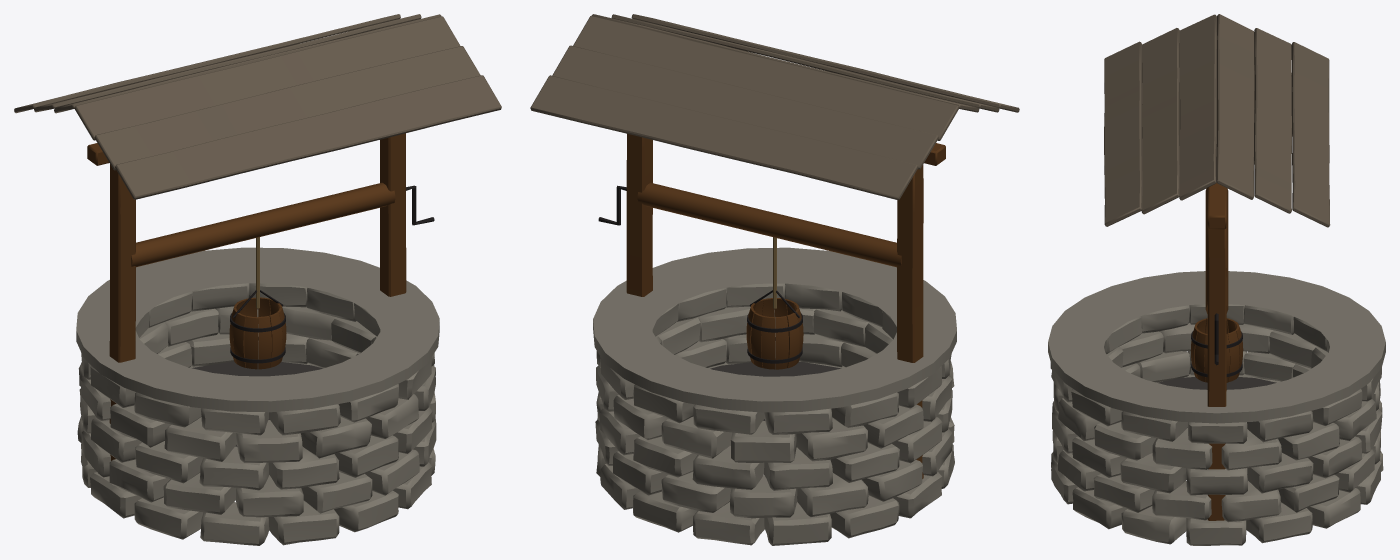
Rendered from brunnen.glb.
3 renders of one model, left to right at view 1: azimuth 30°, elevation 25°; view 2: azimuth 150°, elevation 25°; view 3: azimuth 270°, elevation 25°, orthographic. The views are drawn at different scales.
Visible parts, largest first — view 1: brunnen; view 2: brunnen; view 3: brunnen.
Part boxes in pixels (x1,y1,x2,y2): brunnen: (14,14,501,545); brunnen: (530,14,1019,545); brunnen: (1048,14,1385,545).
Bounding box in the file's own units: 2.1 × 2.25 × 1.8.
